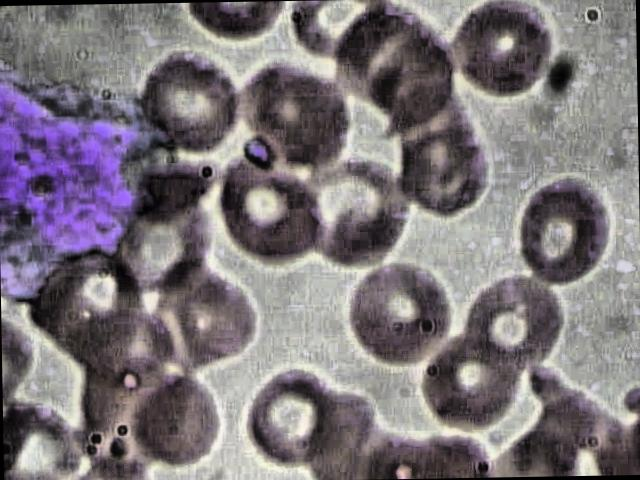RBC: (340, 258, 456, 370), (210, 149, 326, 261), (508, 172, 615, 288), (443, 0, 560, 100), (241, 364, 348, 472), (125, 364, 232, 472), (134, 46, 240, 154), (458, 270, 564, 372), (417, 328, 522, 430)
WBC: (0, 62, 177, 309)
